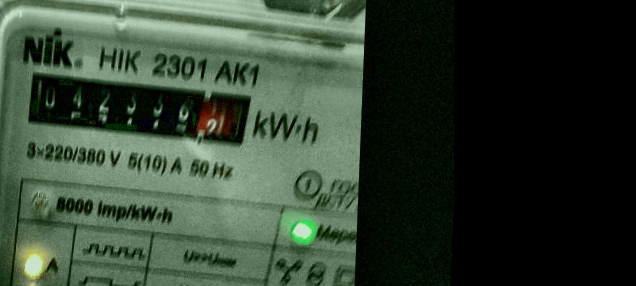0: (42, 81, 56, 110)
2: (94, 85, 113, 113)
3: (121, 86, 138, 116), (150, 88, 165, 117)
4: (68, 83, 85, 110)
6: (175, 95, 191, 123)
screen: (16, 63, 259, 153)
